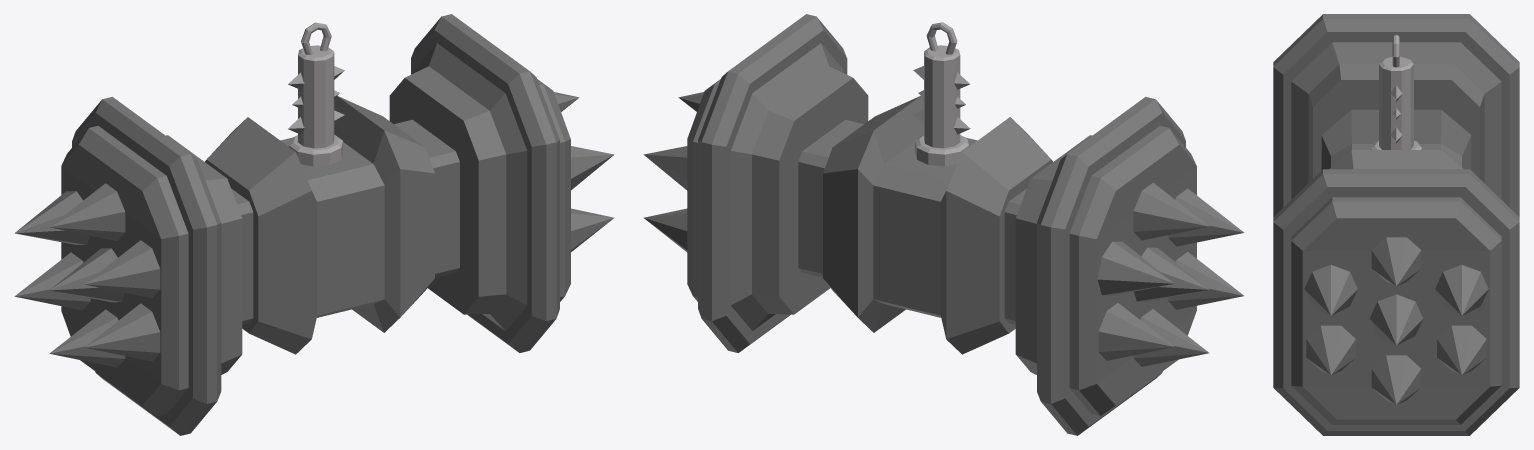
The model's file is StonePendulumTrap_10.fbx.
3 renders of one model, left to right at view 1: azimuth 30°, elevation 25°; view 2: azimuth 150°, elevation 25°; view 3: azimuth 270°, elevation 25°, orthographic. The views are drawn at different scales.
Visible parts, largest first — view 1: StonePendulumTrap_10; view 2: StonePendulumTrap_10; view 3: StonePendulumTrap_10.
Part boxes in pixels (<box>): StonePendulumTrap_10: <box>14,14,614,435</box>; StonePendulumTrap_10: <box>643,14,1244,435</box>; StonePendulumTrap_10: <box>1273,14,1519,435</box>.
Bounding box in the file's own units: 159 × 98.11 × 68.32.
